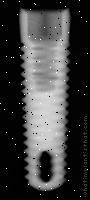Zimmer: (20, 8, 71, 193)
